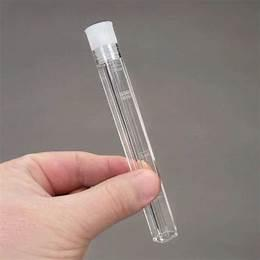Test tube: (72, 19, 186, 241)
